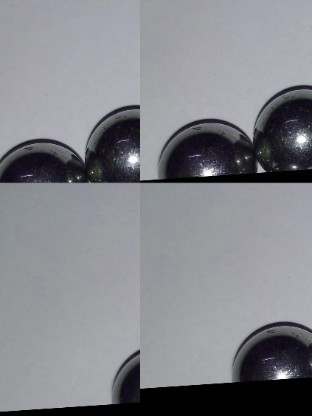ironball: (159, 115, 255, 184), (247, 81, 310, 178), (228, 319, 310, 384), (82, 100, 138, 179), (0, 136, 91, 182), (109, 348, 139, 407)
